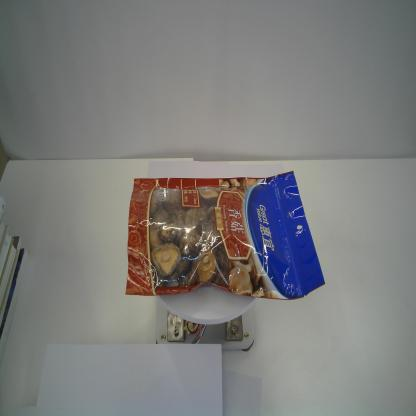Dried Food: (124, 169, 326, 301)
